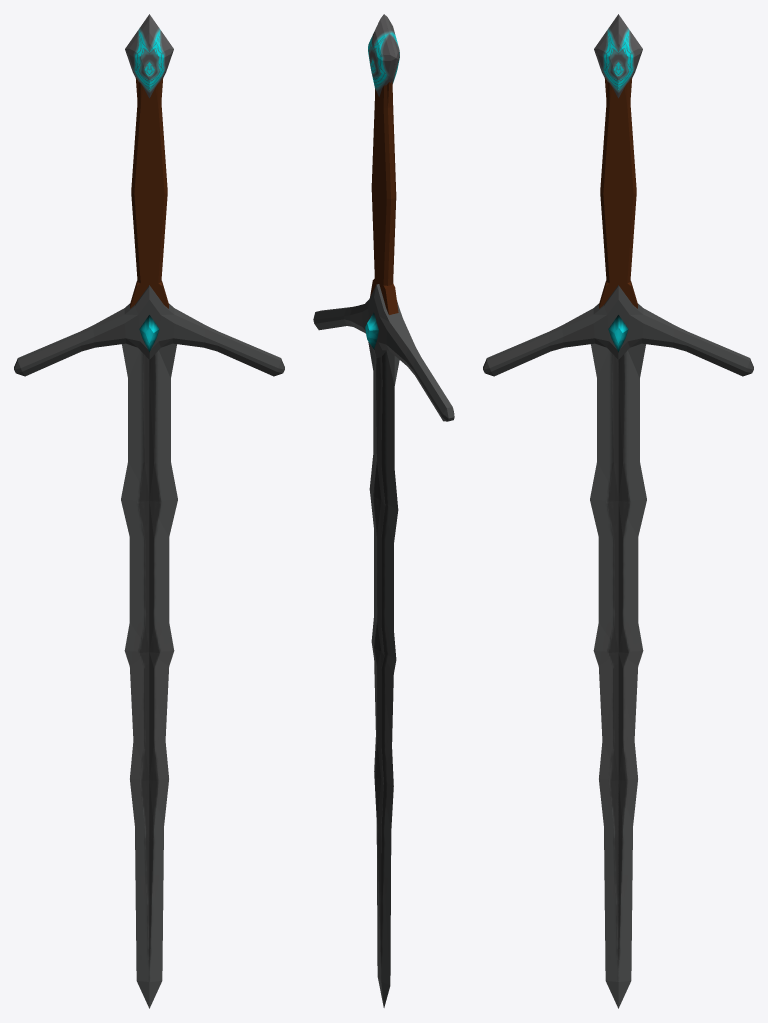
File: sword.fbx
The picture shows the model from 3 angles, left to right: view 1: azimuth 90°, elevation 25°; view 2: azimuth 210°, elevation 25°; view 3: azimuth 270°, elevation 25°; orthographic projection.
Visible parts, largest first — view 1: blade, Cube, Plane; view 2: blade, Cube, Plane; view 3: blade, Cube, Plane.
Part boxes in pixels (x1,y1,x2,y2): blade: (121, 78, 177, 1008); Cube: (14, 285, 284, 376); Plane: (125, 14, 173, 98); blade: (368, 81, 399, 1007); Cube: (313, 284, 454, 421); Plane: (368, 14, 399, 96); blade: (590, 78, 646, 1008); Cube: (483, 285, 753, 376); Plane: (594, 14, 642, 98).
Size of the model in its own units: 16.66 by 472 by 116.
